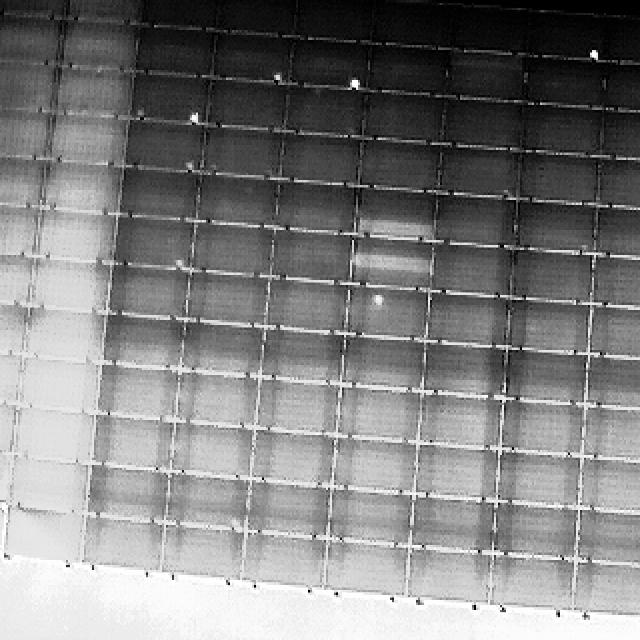Hotspots: (364, 288, 391, 314), (347, 73, 368, 90), (188, 112, 208, 128)
PV-modules: (241, 528, 329, 593), (404, 544, 490, 608), (319, 540, 405, 601), (82, 514, 167, 575), (2, 456, 88, 516), (325, 486, 411, 546), (11, 403, 97, 463), (497, 449, 583, 509), (491, 505, 579, 563), (19, 356, 101, 418), (3, 508, 86, 569), (408, 494, 495, 552), (157, 525, 244, 583), (89, 411, 176, 468), (248, 428, 333, 486), (167, 420, 252, 478), (487, 555, 575, 611), (176, 370, 258, 430), (245, 479, 328, 538), (203, 74, 290, 130), (27, 255, 112, 312), (330, 436, 416, 492), (85, 465, 168, 523), (167, 472, 250, 530), (500, 400, 584, 457), (415, 446, 499, 503), (259, 328, 340, 386), (418, 395, 503, 450), (335, 385, 418, 441), (506, 252, 592, 306), (503, 303, 589, 357), (182, 272, 266, 327), (254, 382, 336, 438), (25, 304, 107, 360), (180, 323, 262, 379), (504, 347, 586, 403), (349, 239, 434, 293), (95, 368, 178, 423), (346, 283, 429, 338), (271, 230, 354, 285), (102, 317, 185, 372), (420, 342, 504, 396), (339, 336, 421, 391), (33, 210, 115, 265), (212, 31, 294, 86), (194, 174, 275, 229), (364, 44, 448, 97), (103, 266, 185, 320), (264, 276, 346, 330), (189, 226, 271, 280), (278, 129, 360, 183), (513, 201, 598, 253), (428, 294, 508, 349), (110, 216, 194, 268), (200, 125, 282, 178), (353, 188, 433, 242), (48, 114, 128, 168), (434, 195, 515, 248), (57, 18, 135, 73), (440, 101, 524, 152), (520, 56, 604, 107), (51, 62, 130, 116), (116, 168, 198, 220), (439, 144, 519, 197), (285, 86, 365, 139), (278, 182, 359, 234), (431, 247, 512, 299), (360, 94, 441, 146), (570, 558, 640, 618), (519, 106, 601, 157), (358, 136, 438, 188), (287, 36, 367, 88), (41, 164, 118, 218), (518, 155, 601, 205), (123, 117, 201, 170), (451, 1, 529, 54), (127, 73, 209, 123), (135, 27, 214, 78), (444, 52, 524, 102), (522, 12, 602, 60), (574, 510, 640, 568), (578, 457, 640, 515), (582, 405, 640, 463), (368, 0, 446, 42), (0, 15, 60, 69), (586, 355, 640, 413), (0, 58, 53, 117), (296, 0, 378, 38), (214, 0, 300, 35), (586, 308, 640, 360), (590, 252, 640, 308), (594, 202, 640, 258), (0, 108, 49, 160), (0, 154, 46, 208), (596, 158, 640, 212), (134, 0, 216, 28), (596, 15, 640, 67), (600, 60, 640, 115), (0, 202, 39, 257), (600, 108, 640, 160), (0, 352, 18, 459), (68, 0, 146, 22), (0, 252, 30, 308), (0, 297, 23, 355), (0, 0, 70, 18), (0, 346, 20, 408), (0, 398, 15, 456)
